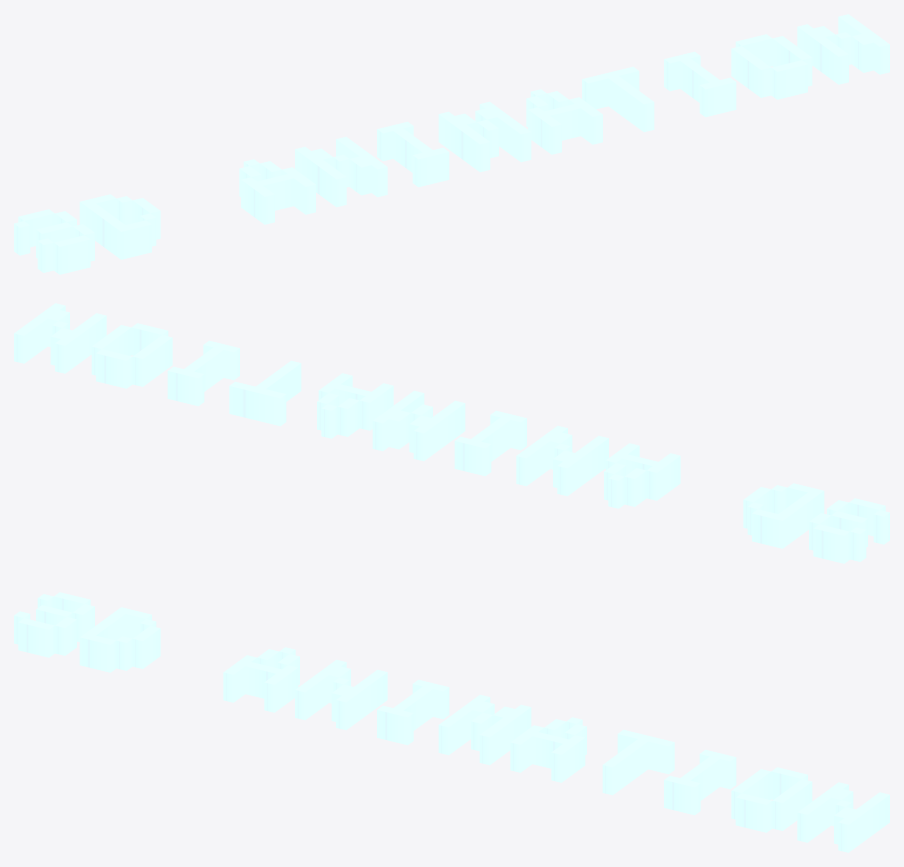
The model's file is 3danimation.glb.
3 renders of one model, top to bottom at view 1: azimuth 30°, elevation 25°; view 2: azimuth 150°, elevation 25°; view 3: azimuth 330°, elevation 25°, orthographic.
Parts seen in each view (by area): view 1: 3d animation; view 2: 3d animation; view 3: 3d animation.
Boxes of the visible parts, x1,y1,x2,y2 form: 3d animation: [14, 14, 889, 274]; 3d animation: [14, 303, 889, 563]; 3d animation: [14, 592, 889, 852].
Bounding box in the file's own units: 6.31 × 0.2 × 0.5385.
